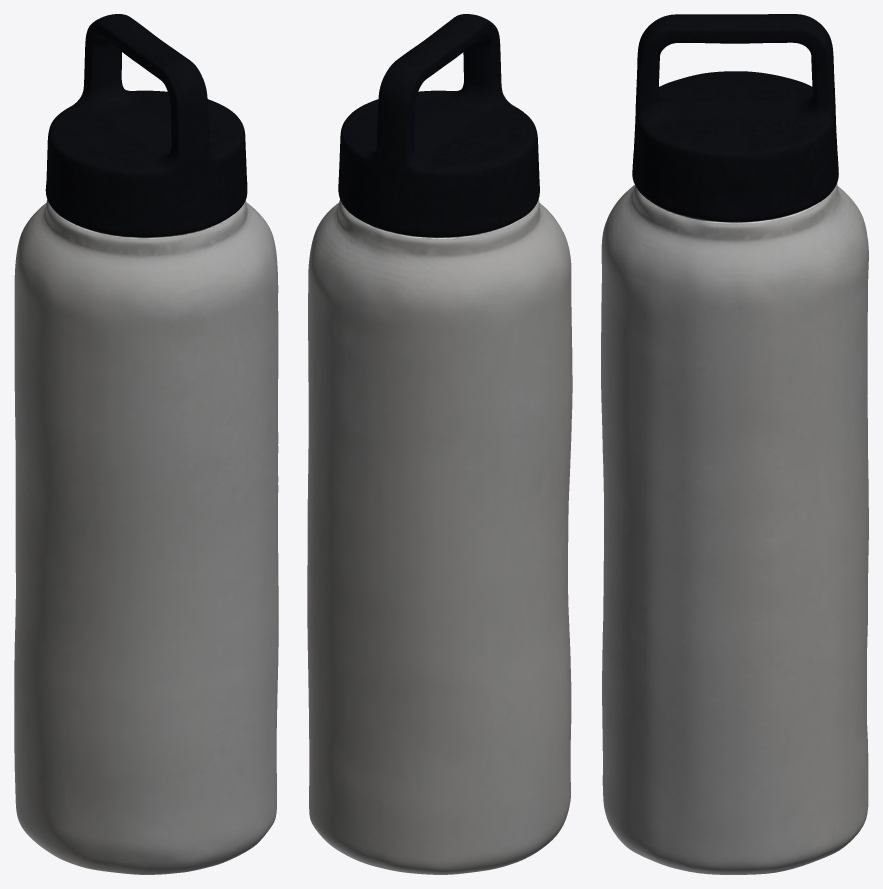
File: TERMO.glb
3 views of the same model, side by side, from view 1: azimuth 30°, elevation 25°; view 2: azimuth 150°, elevation 25°; view 3: azimuth 270°, elevation 25° (orthographic). The views are drawn at different scales.
Parts seen in each view (by area): view 1: tripo_node_e7c35513-abe7-4926-b047-0943c4d6afae; view 2: tripo_node_e7c35513-abe7-4926-b047-0943c4d6afae; view 3: tripo_node_e7c35513-abe7-4926-b047-0943c4d6afae.
Boxes of the visible parts, x1,y1,x2,y2 form: tripo_node_e7c35513-abe7-4926-b047-0943c4d6afae: [14, 14, 278, 874]; tripo_node_e7c35513-abe7-4926-b047-0943c4d6afae: [307, 14, 572, 874]; tripo_node_e7c35513-abe7-4926-b047-0943c4d6afae: [601, 14, 868, 874].
Bounding box in the file's own units: 0.2995 × 0.9794 × 0.294.
Materials: 1 (1 with a texture image).
